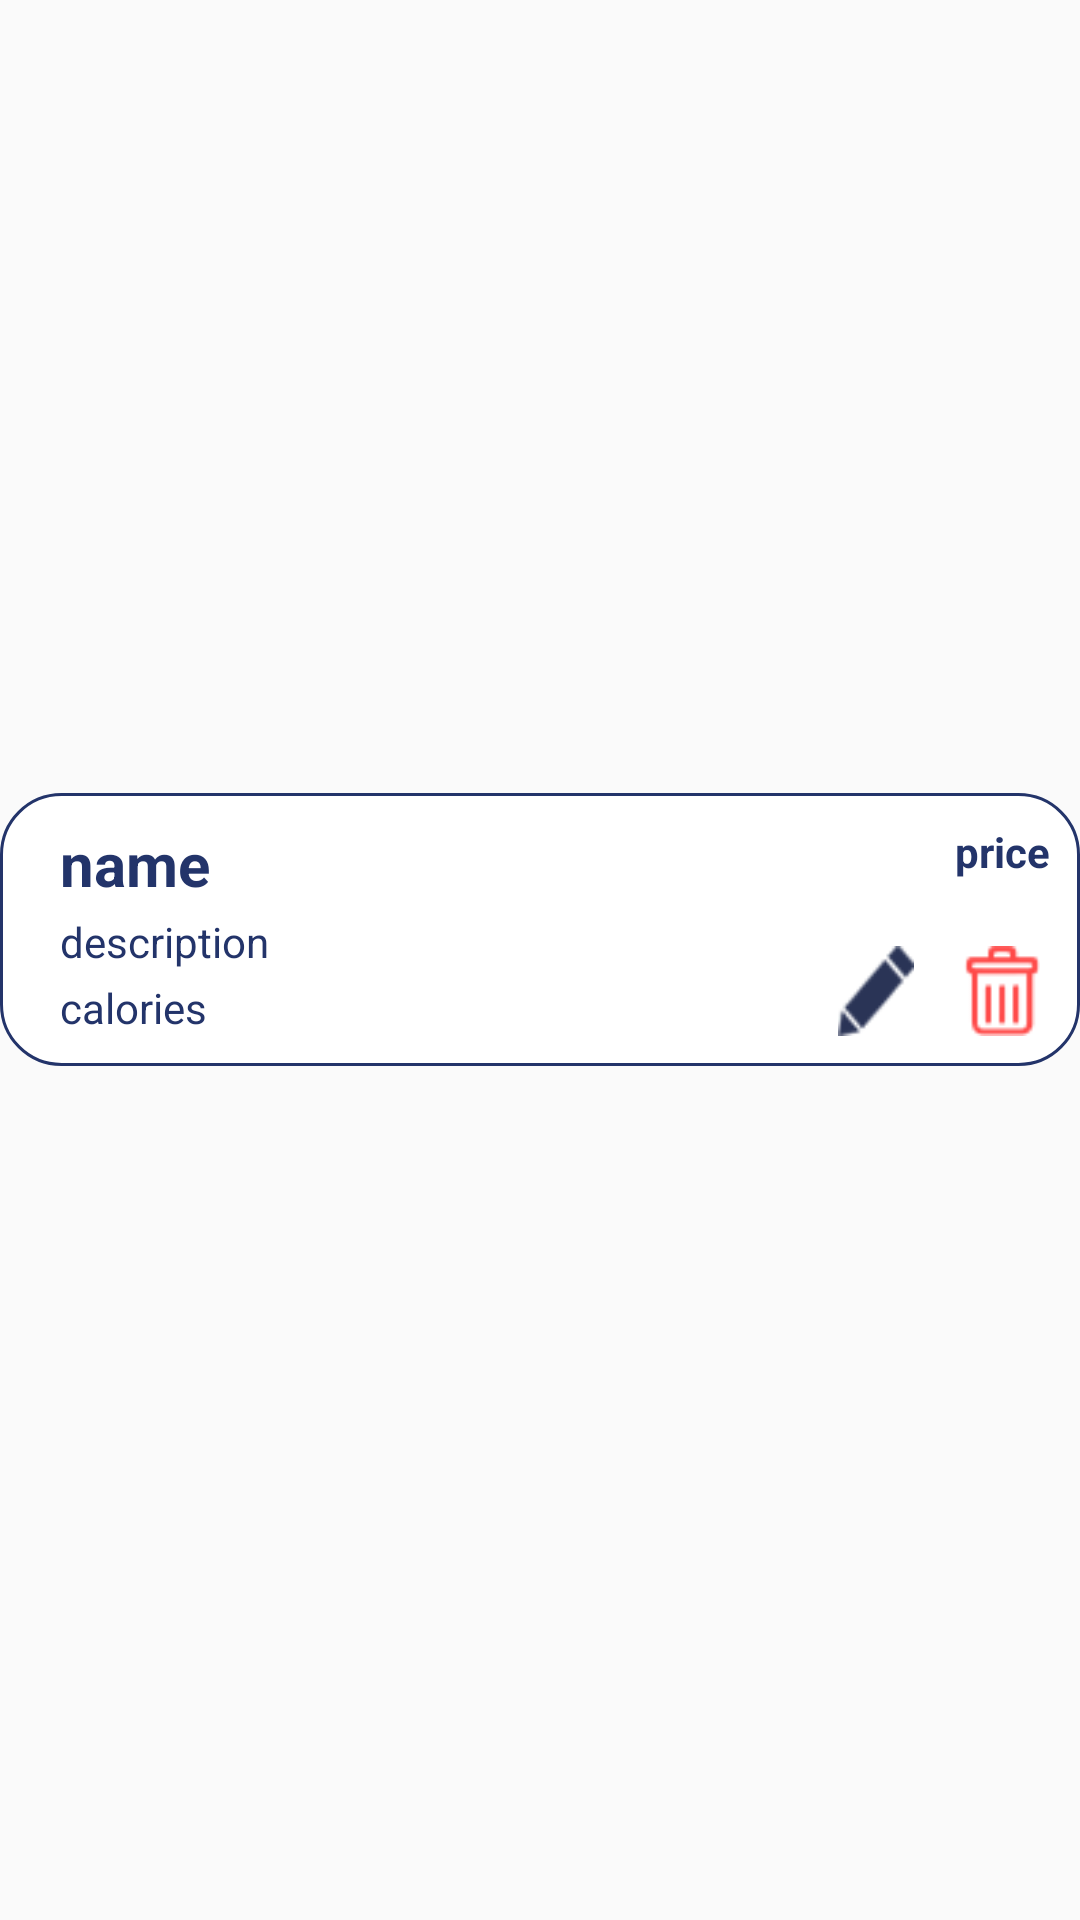

Icon click points for this 1080x1920 phone screenshot, format point (x, y):
delete: point (1002, 991)
edit: point (876, 991)
